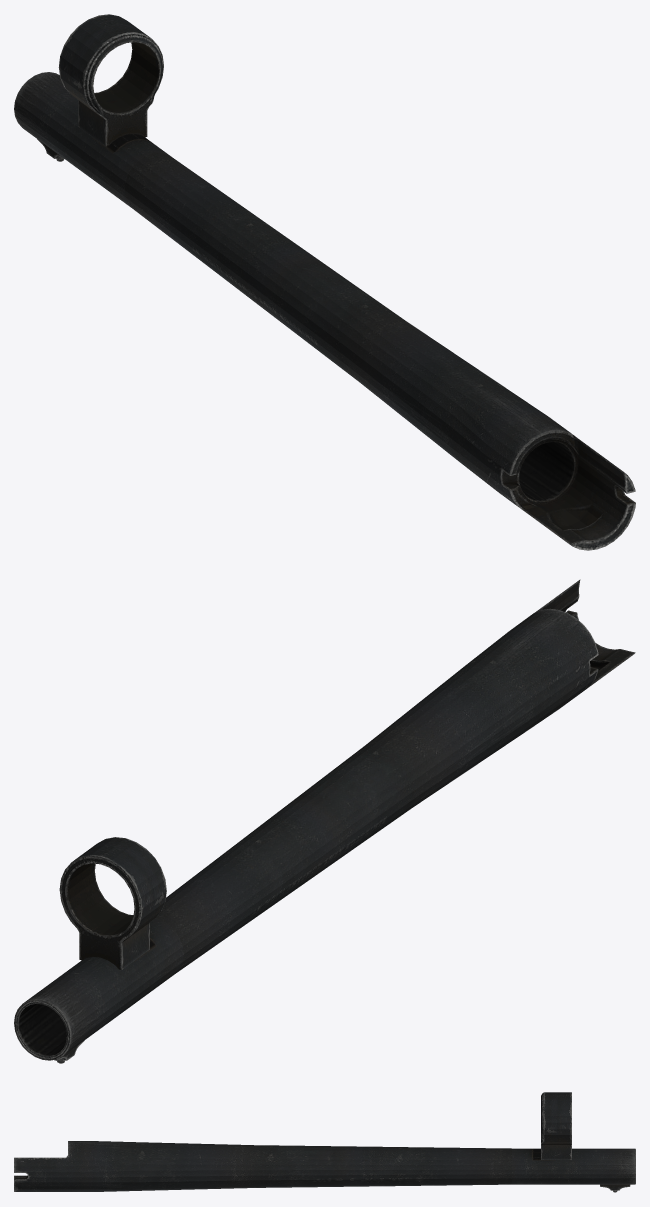
3 views of the same model, one above another, from view 1: azimuth 30°, elevation 25°; view 2: azimuth 150°, elevation 25°; view 3: azimuth 270°, elevation 25° (orthographic). The views are drawn at different scales.
Parts seen in each view (by area): view 1: TW_5a787f25c5856700186c4ab9_PZ_Import; view 2: TW_5a787f25c5856700186c4ab9_PZ_Import; view 3: TW_5a787f25c5856700186c4ab9_PZ_Import.
Part boxes in pixels (x1=…): TW_5a787f25c5856700186c4ab9_PZ_Import: x1=14, y1=14, x2=635, y2=550; TW_5a787f25c5856700186c4ab9_PZ_Import: x1=14, y1=579, x2=635, y2=1063; TW_5a787f25c5856700186c4ab9_PZ_Import: x1=14, y1=1092, x2=635, y2=1192.
Size of the model in its own units: 0.0188 by 0.2246 by 0.0389.
Materials: 1 (1 with a texture image).
